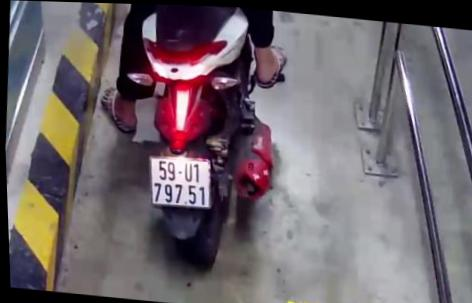LP: (144, 151, 214, 211)
